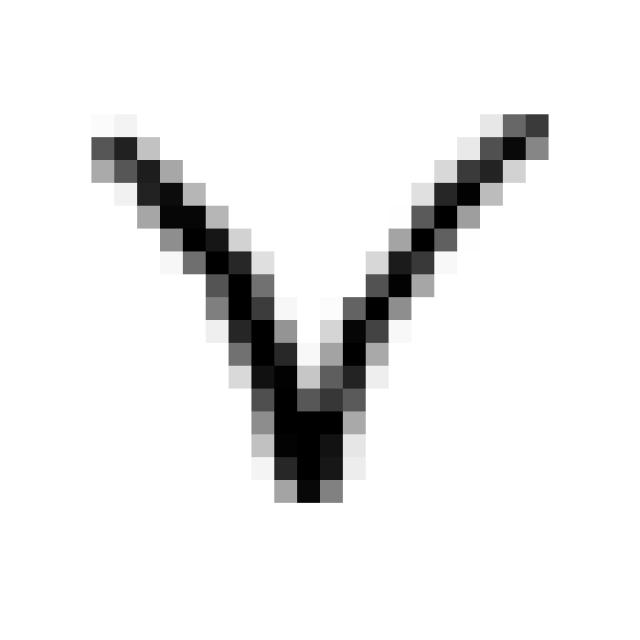7 -seven-: (66, 89, 570, 528)
